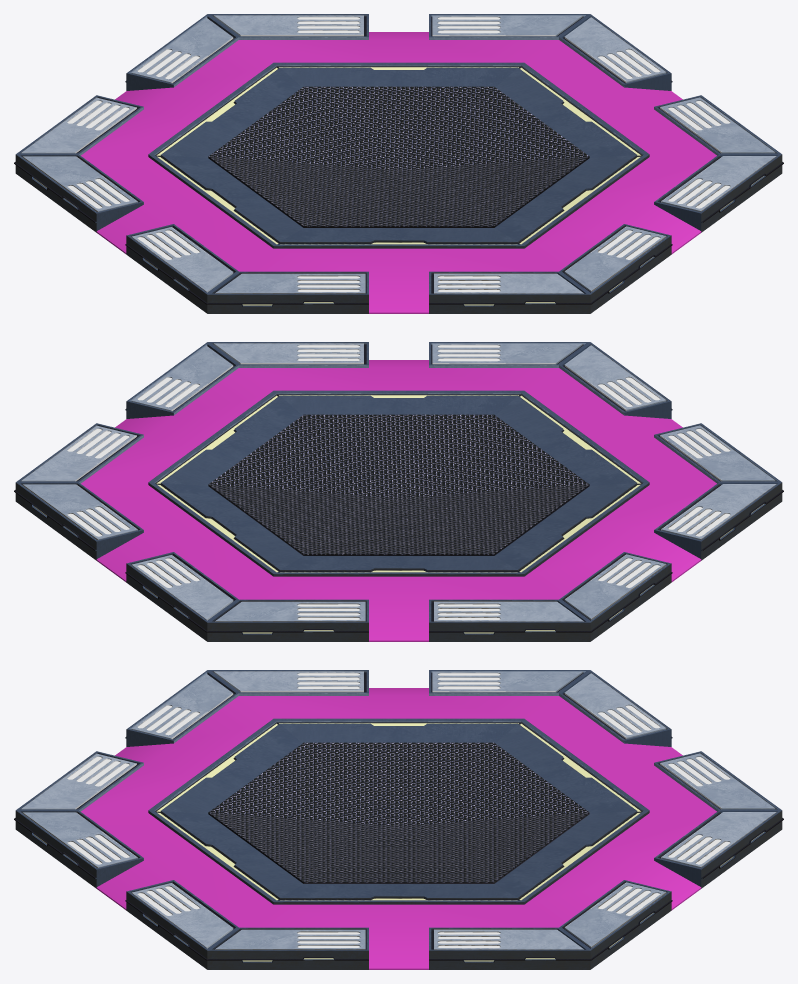
File: Platform01_Art.glb
The picture shows the model from 3 angles, top to bottom: view 1: azimuth 30°, elevation 25°; view 2: azimuth 150°, elevation 25°; view 3: azimuth 270°, elevation 25°; orthographic projection.
Parts seen in each view (by area): view 1: Platform01_Art; view 2: Platform01_Art; view 3: Platform01_Art.
Part boxes in pixels (left/top/right/bottom): Platform01_Art: left=14, top=14, right=783, bottom=313; Platform01_Art: left=14, top=342, right=783, bottom=641; Platform01_Art: left=14, top=670, right=783, bottom=969.
Bounding box in the file's own units: 59.58 × 1.89 × 68.8.
3 materials, 3 textured.
